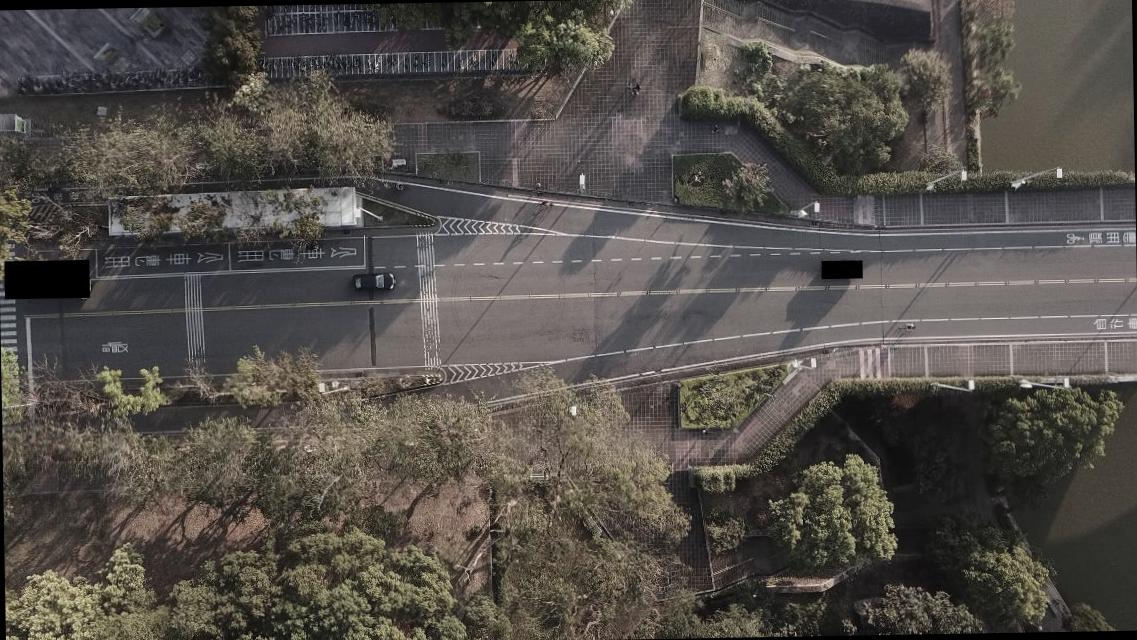vehicle: (352, 273, 396, 291)
